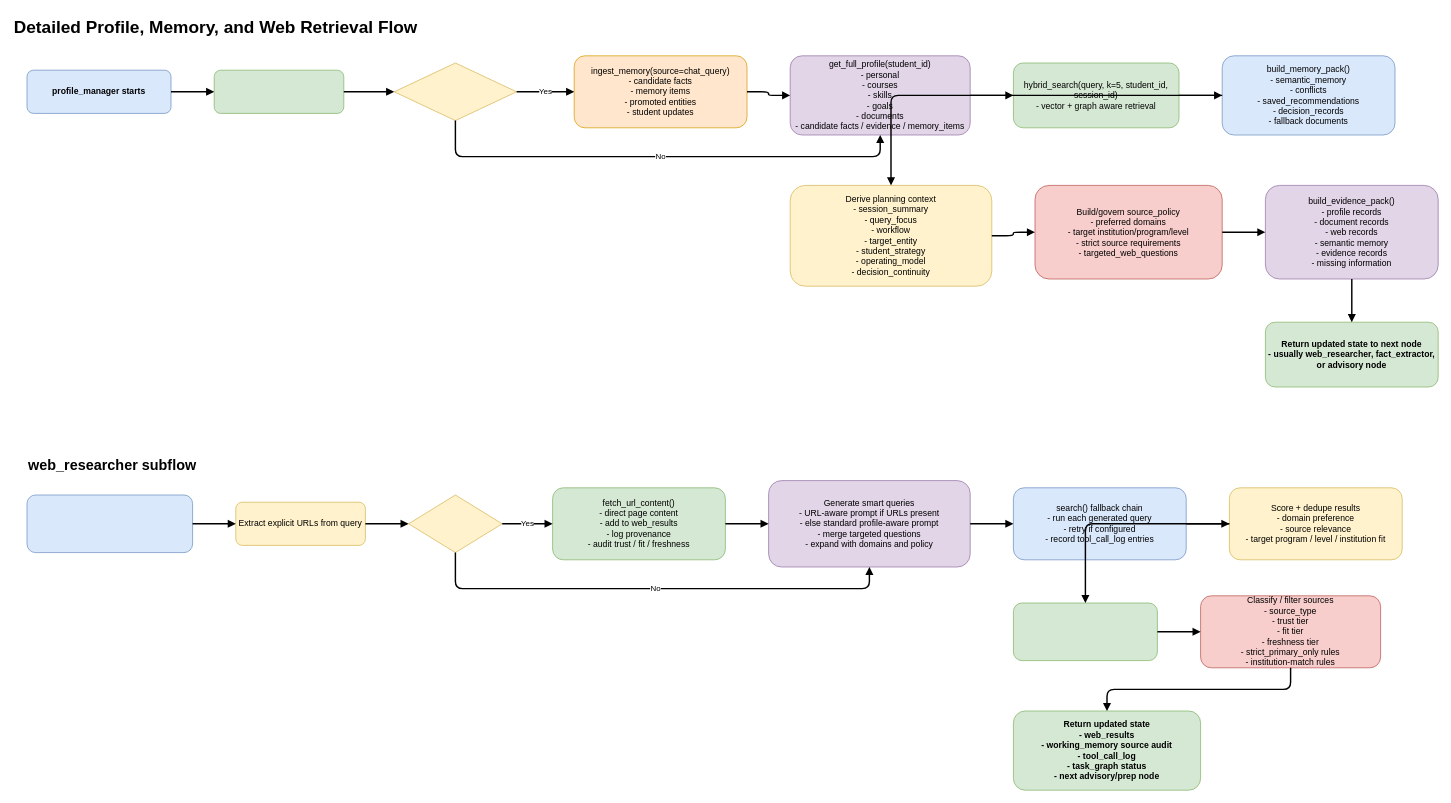
The diagram is 1451 pixels wide and 803 high, and some of its shapes have lost their labels. The box of each missing label's shape, as (x1, y1, x2, y2) in pixels:
Current query looks like profile signal?: (393, 62, 517, 121)
ensure_student(student_id): (213, 69, 344, 113)
Fetch strongest search hits within fetch budget: (1013, 602, 1157, 661)
URLs found?: (408, 494, 502, 553)
web_researcher starts - reads source_policy + targeted_web_questions: (26, 494, 193, 553)
